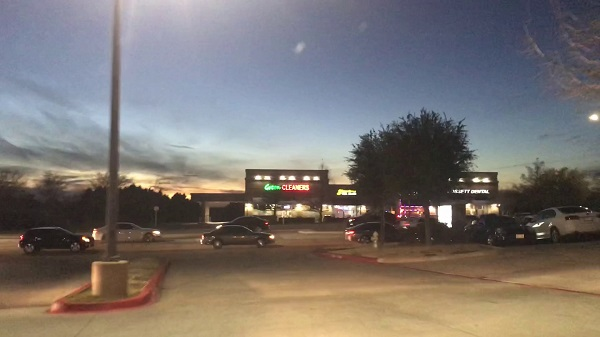car: (529, 204, 594, 245), (464, 214, 535, 245), (18, 228, 92, 256), (199, 224, 274, 248), (92, 220, 162, 242), (346, 224, 411, 245), (213, 214, 269, 230)
